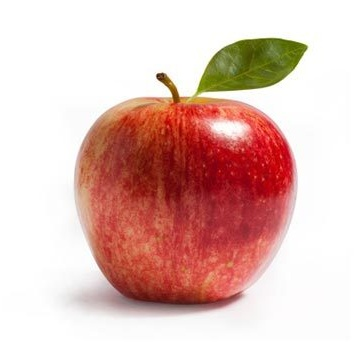apple: (72, 37, 312, 308)
